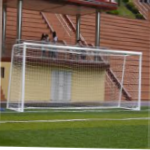goals: (6, 40, 144, 114)
